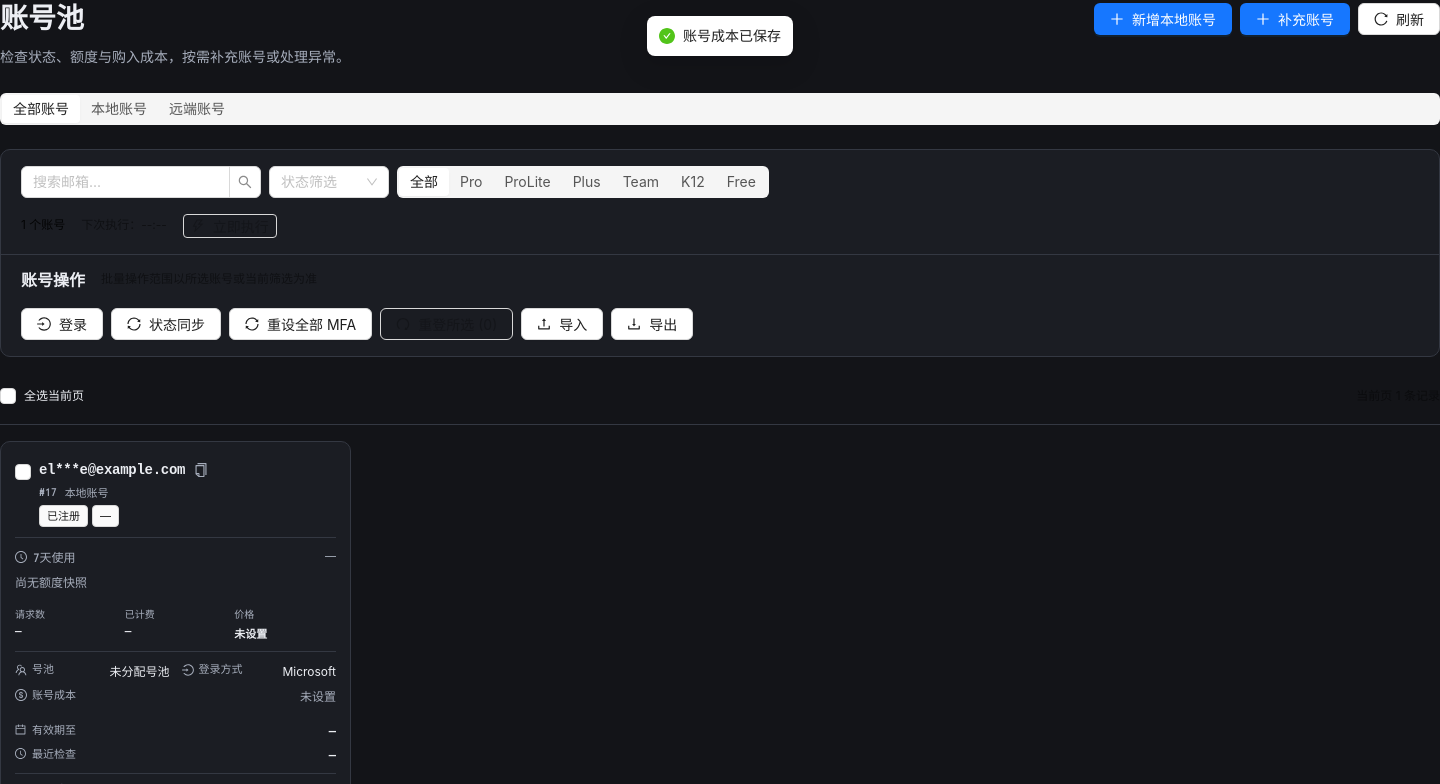
Accounts ChatGPT staged login integration › preserves a saved cost when an older list request finishes after the save
Expected: the button with aria-label "设置 eligible@example.com 的账号成本" is shown, [15, 687, 336, 711]
Click the button with aria-label "刷新账号列表" at (1399, 19), box [1358, 3, 1439, 35]
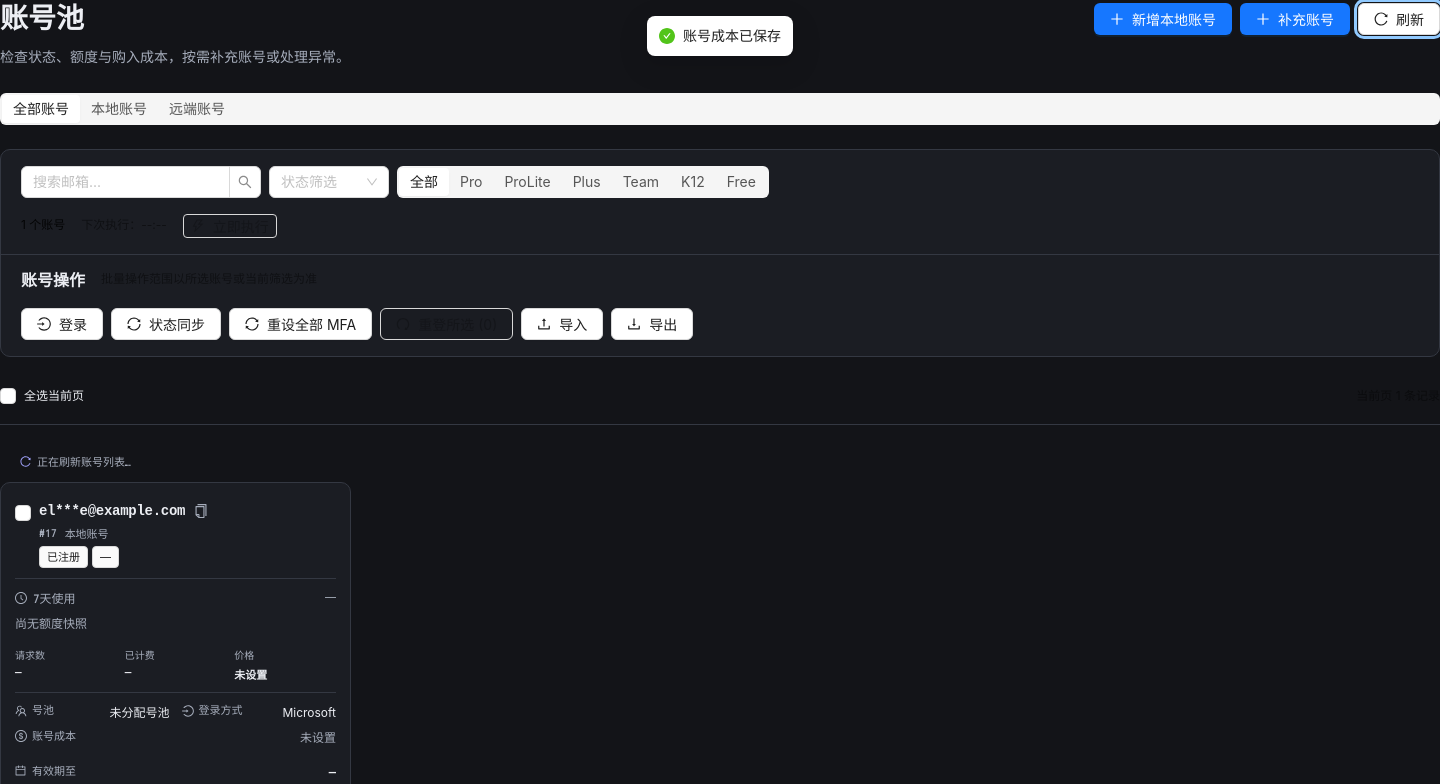
Click the button with aria-label "设置 eligible@example.com 的账号成本" at (54, 736), box [15, 728, 336, 752]
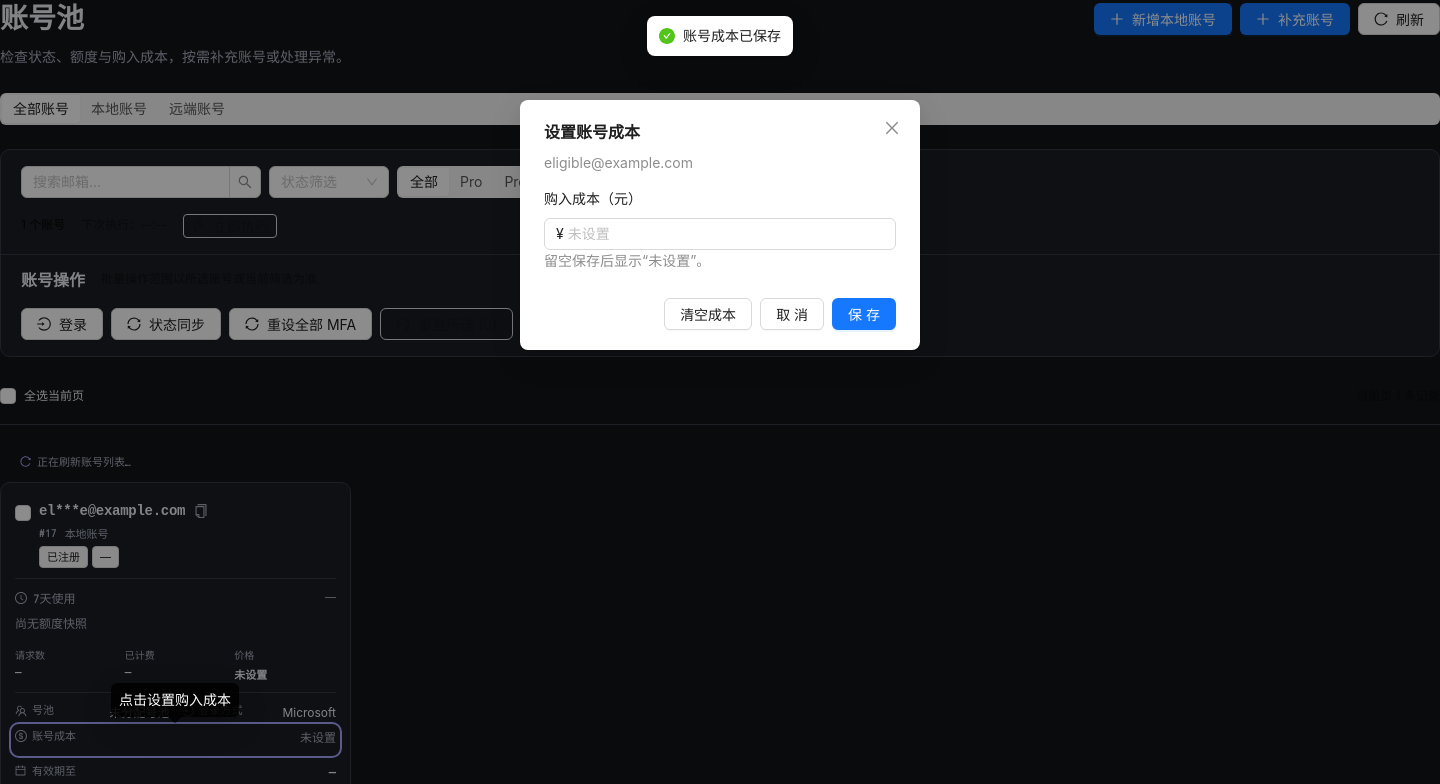
Type "15" into the number field labelled "购入成本（元）" at (731, 234), box [568, 219, 895, 249]
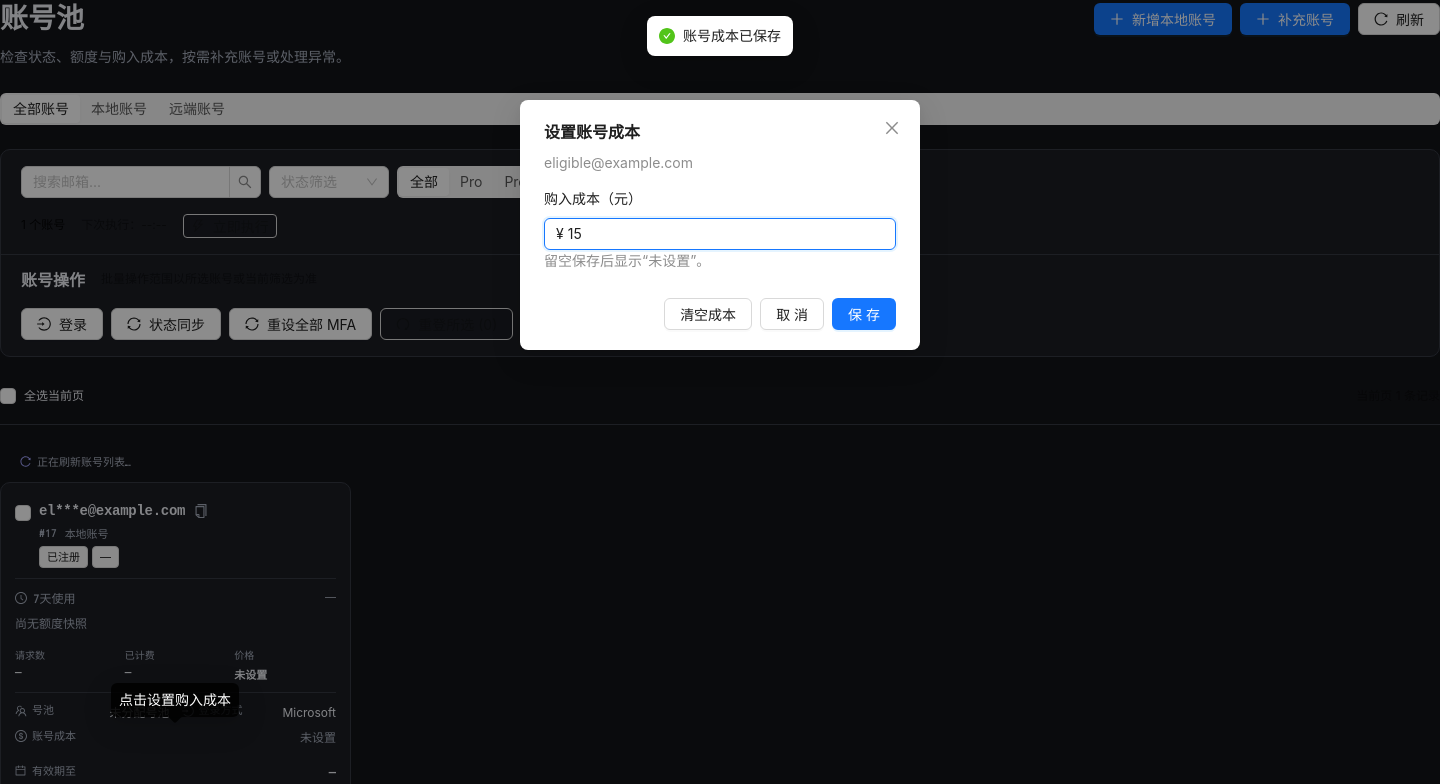
Click the button "保 存" at (864, 314), box [832, 298, 896, 330]
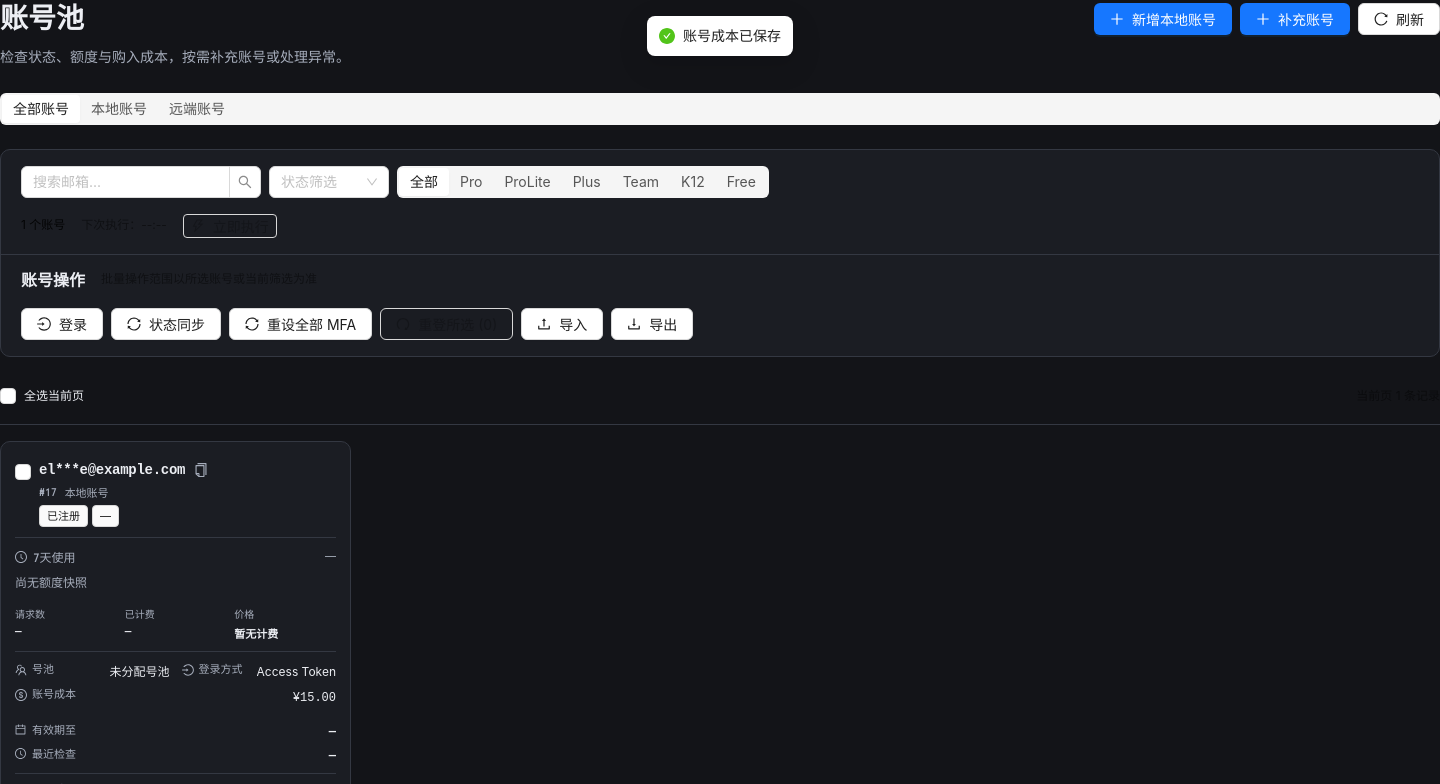
Expected: the text "正在刷新账号列表…" is gone
Expected: the button with aria-label "设置 eligible@example.com 的账号成本" shows "¥15.00", [15, 687, 336, 711]
